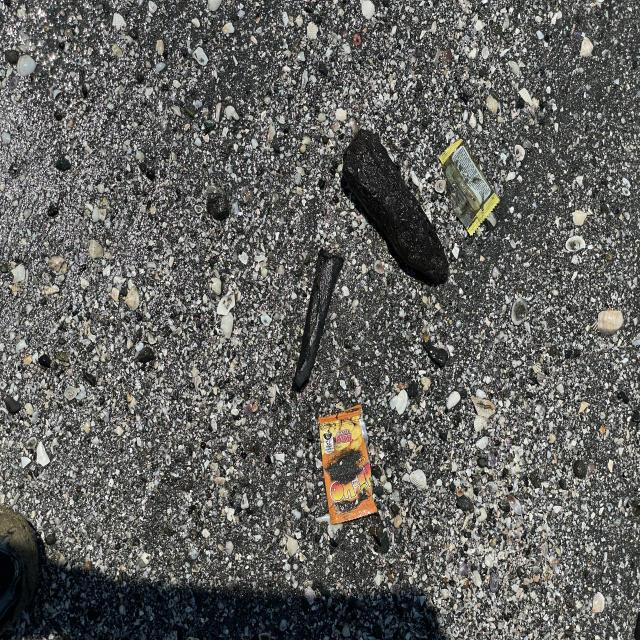plastic_waste: (319, 409, 381, 529), (438, 139, 503, 239)
